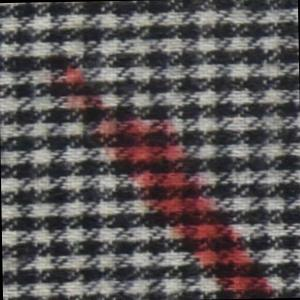Stain: (44, 56, 278, 300)
